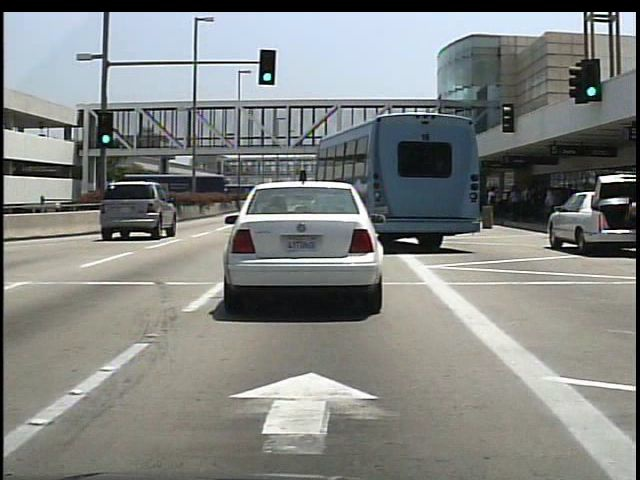person: (623, 191, 639, 254)
